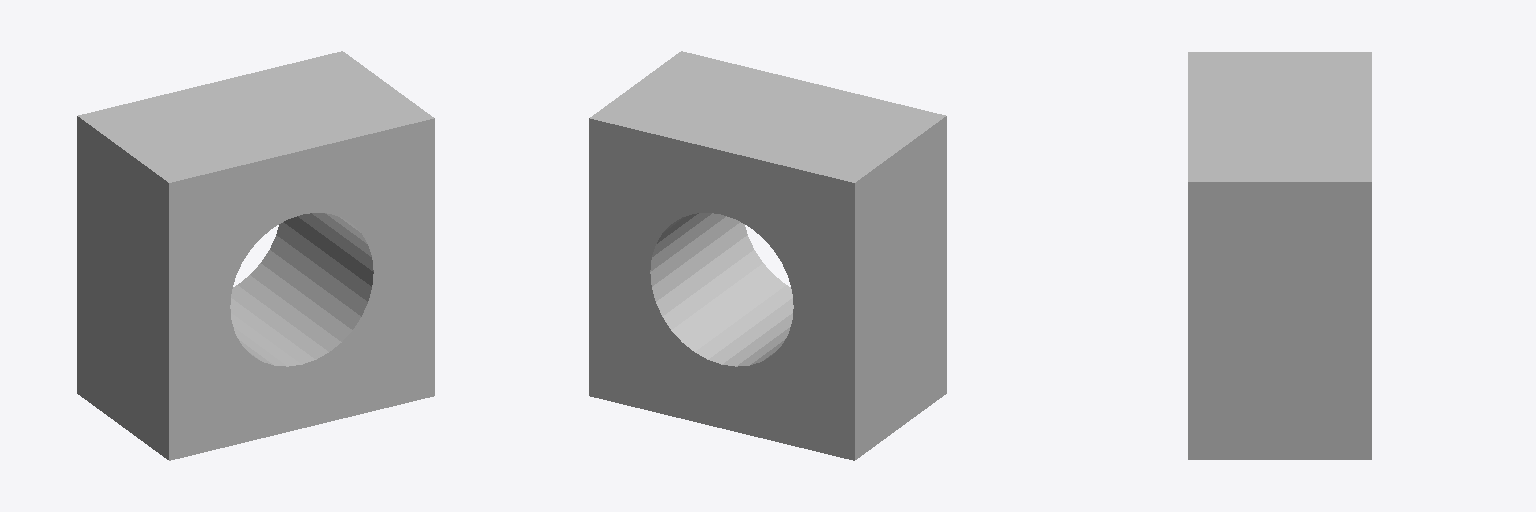
The model's file is base_single.obj.
The picture shows the model from 3 angles: view 1: azimuth 30°, elevation 25°; view 2: azimuth 150°, elevation 25°; view 3: azimuth 270°, elevation 25°; orthographic projection.
Parts seen in each view (by area): view 1: base_single; view 2: base_single; view 3: base_single.
Boxes of the visible parts, x1=… form: base_single: x1=77, y1=51, x2=434, y2=460; base_single: x1=589, y1=51, x2=946, y2=460; base_single: x1=1188, y1=52, x2=1371, y2=459.
Size of the model in its own units: 0.05 by 0.05 by 0.03.